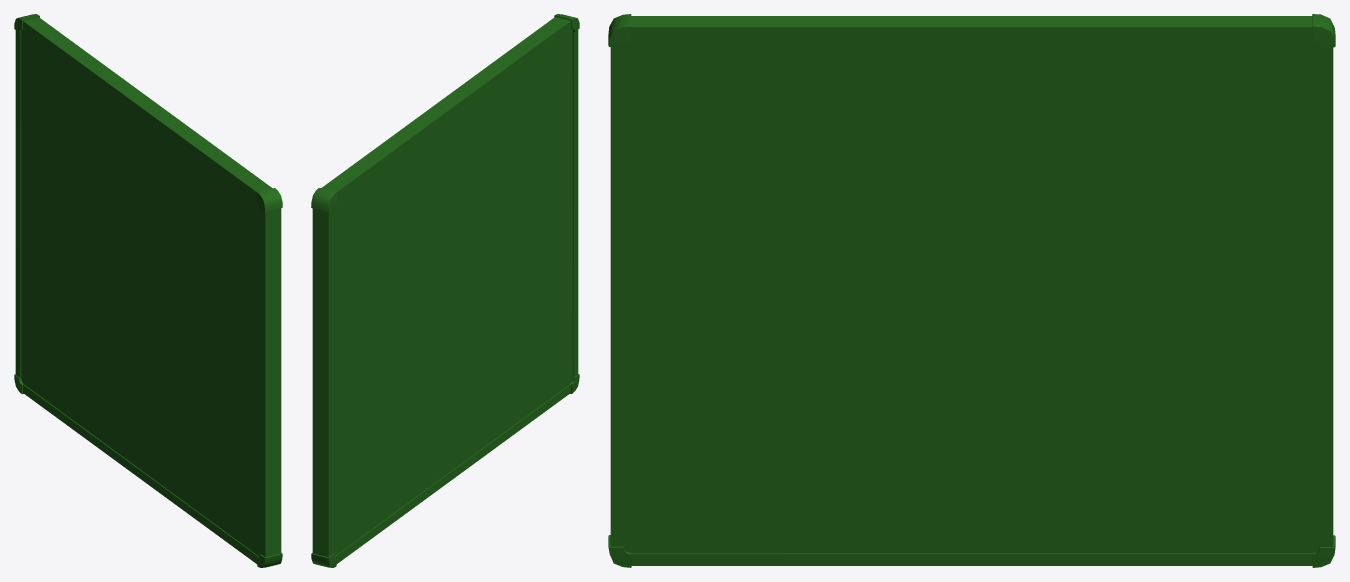
File: tableau.FBX
The picture shows the model from 3 angles, left to right: view 1: azimuth 30°, elevation 25°; view 2: azimuth 150°, elevation 25°; view 3: azimuth 270°, elevation 25°; orthographic projection. The views are drawn at different scales.
Parts seen in each view (by area): view 1: Box004; view 2: Box004; view 3: Box004.
Part boxes in pixels (x1,y1,x2,y2): Box004: (14, 14, 282, 567); Box004: (311, 14, 579, 567); Box004: (608, 14, 1335, 567).
Size of the model in its own units: 1.78 by 34.14 by 41.49.
